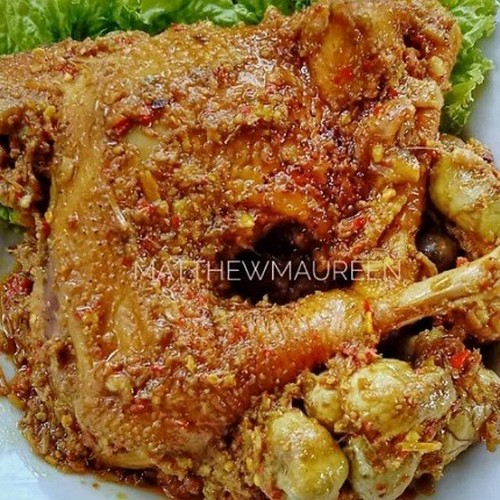ayam betutu: (12, 45, 469, 257)
